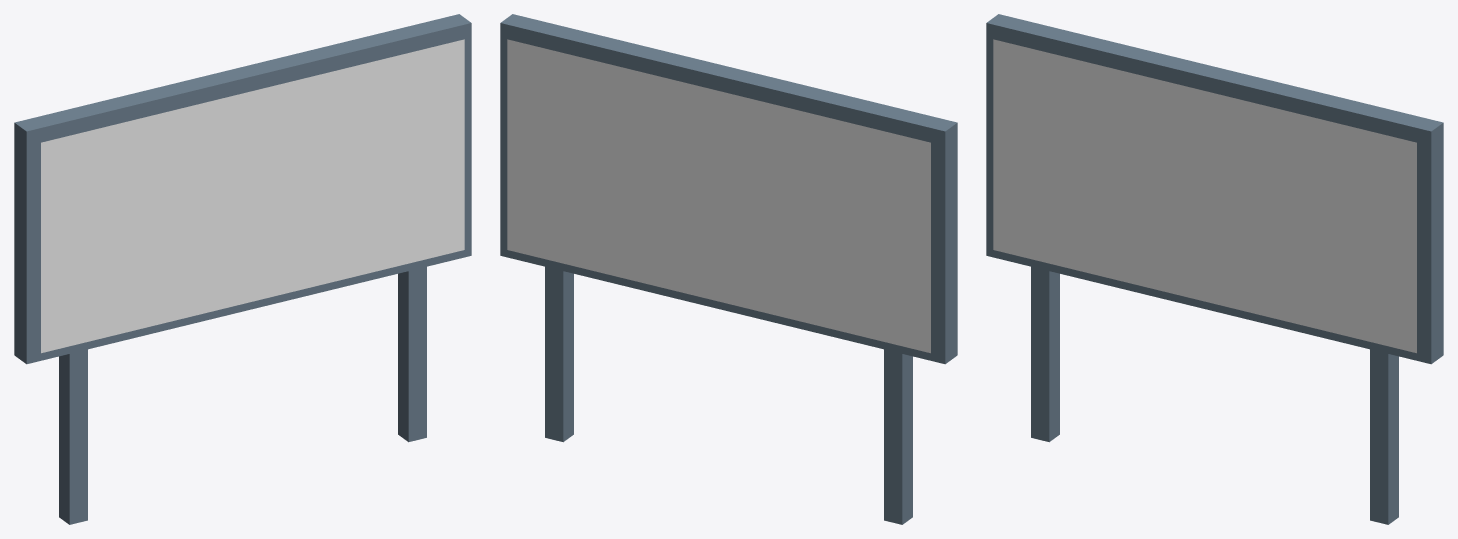
File: ad_screen_billboard.glb
3 renders of one model, left to right at view 1: azimuth 30°, elevation 25°; view 2: azimuth 150°, elevation 25°; view 3: azimuth 330°, elevation 25°, orthographic.
Parts seen in each view (by area): view 1: Ad_Screen_Billboard_Roadside_Dual_Front, Billboard_Roadside_Dual_Struct; view 2: Ad_Screen_Billboard_Roadside_Dual_Back, Billboard_Roadside_Dual_Struct; view 3: Ad_Screen_Billboard_Roadside_Dual_Front, Billboard_Roadside_Dual_Struct.
Boxes of the visible parts, x1,y1,x2,y2 form: Ad_Screen_Billboard_Roadside_Dual_Front: (41, 39, 464, 353); Billboard_Roadside_Dual_Struct: (14, 14, 471, 524); Ad_Screen_Billboard_Roadside_Dual_Back: (507, 39, 930, 353); Billboard_Roadside_Dual_Struct: (500, 14, 957, 524); Ad_Screen_Billboard_Roadside_Dual_Front: (993, 39, 1416, 353); Billboard_Roadside_Dual_Struct: (986, 14, 1443, 524).
Bounding box in the file's own units: 8.4 × 7.3 × 0.64.
